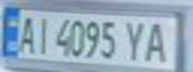0: (66, 16, 87, 57)
4: (51, 15, 72, 56)
5: (100, 17, 124, 61)
9: (81, 17, 103, 60)
A: (139, 18, 175, 64), (15, 11, 39, 55)
I: (30, 12, 54, 55)
Y: (121, 17, 151, 63)
